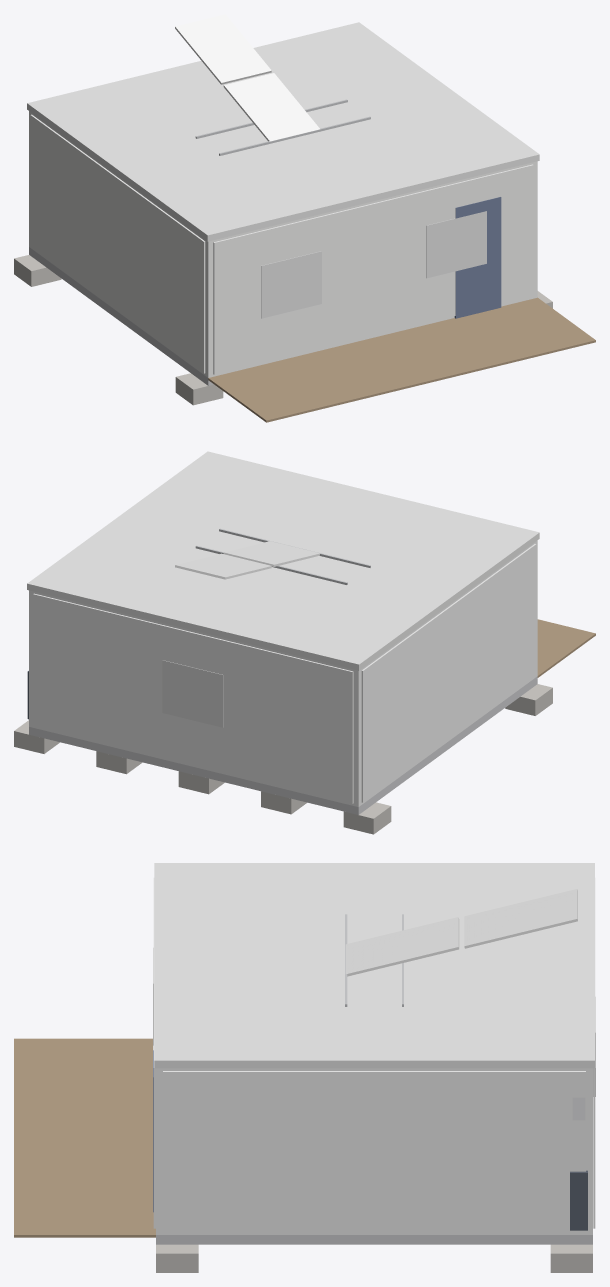
Rendered from Studio-20-FullSolar+TerraceDeck-LOD0.glb.
3 renders of one model, top to bottom at view 1: azimuth 30°, elevation 25°; view 2: azimuth 150°, elevation 25°; view 3: azimuth 270°, elevation 25°, orthographic. The views are drawn at different scales.
Visible parts, largest first — view 1: ExteriorPanelsStandard, RoofMain, TerraceDeck, SolarPanelArray, WindowsStandard, ExteriorShell, EntryDoor, FoundationBlocks, BaseFrame, SolarMountingHardware; view 2: ExteriorPanelsStandard, RoofMain, FoundationBlocks, ExteriorShell, BaseFrame, WindowsStandard, SolarPanelArray, TerraceDeck, SolarMountingHardware; view 3: RoofMain, ExteriorPanelsStandard, TerraceDeck, SolarPanelArray, ExteriorShell, BaseFrame, FoundationBlocks, SolarBattery.
Part boxes in pixels (<box>): ExteriorPanelsStandard: <box>30,114,533,374</box>; RoofMain: <box>27,22,539,241</box>; TerraceDeck: <box>208,297,595,422</box>; SolarPanelArray: <box>175,14,319,141</box>; WindowsStandard: <box>261,211,486,318</box>; ExteriorShell: <box>29,111,537,377</box>; EntryDoor: <box>454,197,501,318</box>; FoundationBlocks: <box>14,255,552,405</box>; BaseFrame: <box>29,247,213,385</box>; SolarMountingHardware: <box>195,99,370,155</box>; ExteriorPanelsStandard: <box>33,544,536,803</box>; RoofMain: <box>27,451,539,670</box>; FoundationBlocks: <box>14,684,552,834</box>; ExteriorShell: <box>29,540,537,806</box>; BaseFrame: <box>29,676,537,814</box>; WindowsStandard: <box>162,660,223,727</box>; SolarPanelArray: <box>175,541,319,579</box>; TerraceDeck: <box>537,619,595,677</box>; SolarMountingHardware: <box>195,528,370,584</box>; RoofMain: <box>154,863,594,1068</box>; ExteriorPanelsStandard: <box>153,878,595,1232</box>; TerraceDeck: <box>14,1038,155,1237</box>; SolarPanelArray: <box>345,889,577,976</box>; ExteriorShell: <box>156,1068,592,1234</box>; BaseFrame: <box>156,1235,592,1244</box>; FoundationBlocks: <box>156,1244,592,1272</box>; SolarBattery: <box>570,1170,587,1230</box>.
Bounding box in the file's own units: 7.14 × 4.07 × 8.2.
